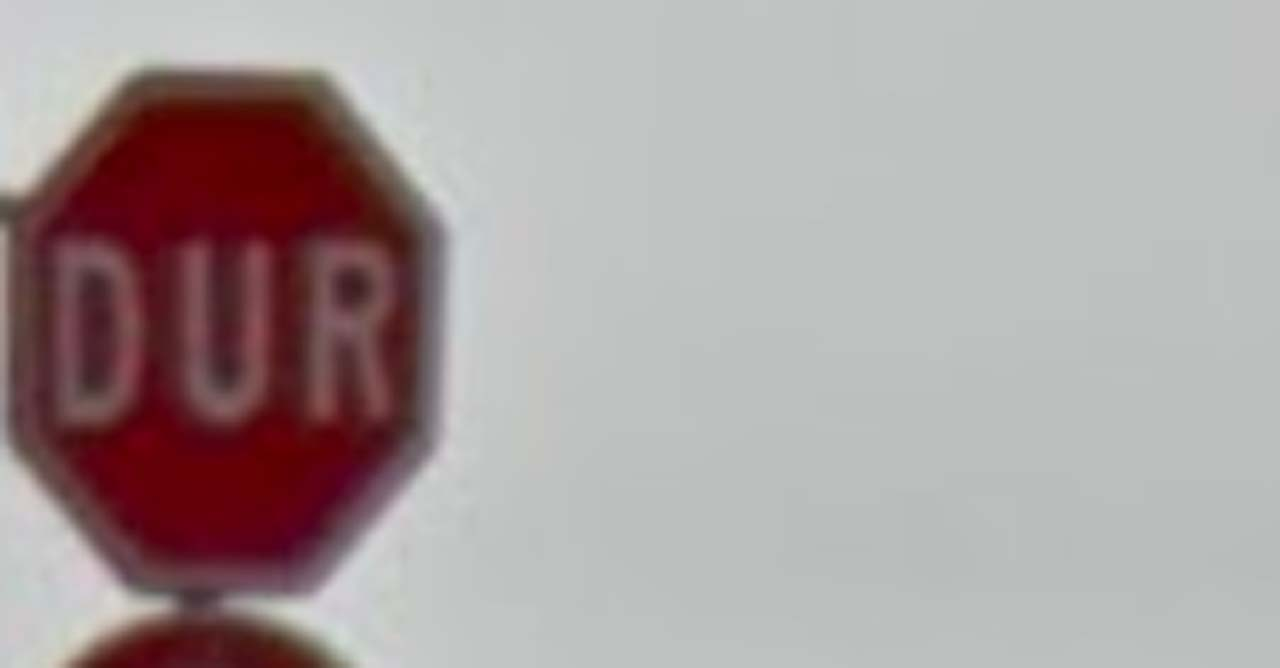arac_dur_isareti: (19, 46, 463, 620)
